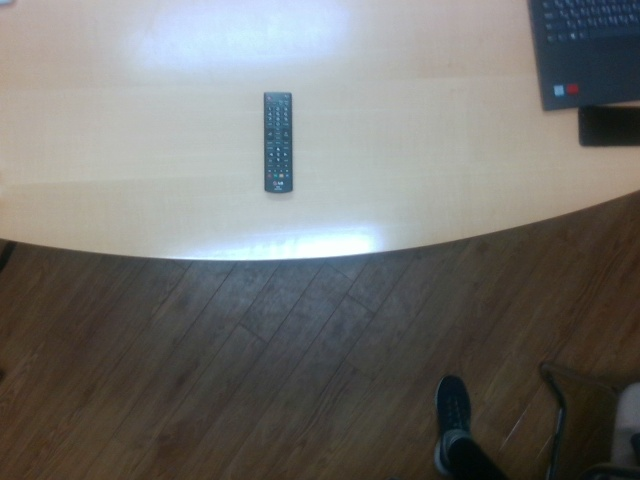remote: (262, 91, 294, 194)
